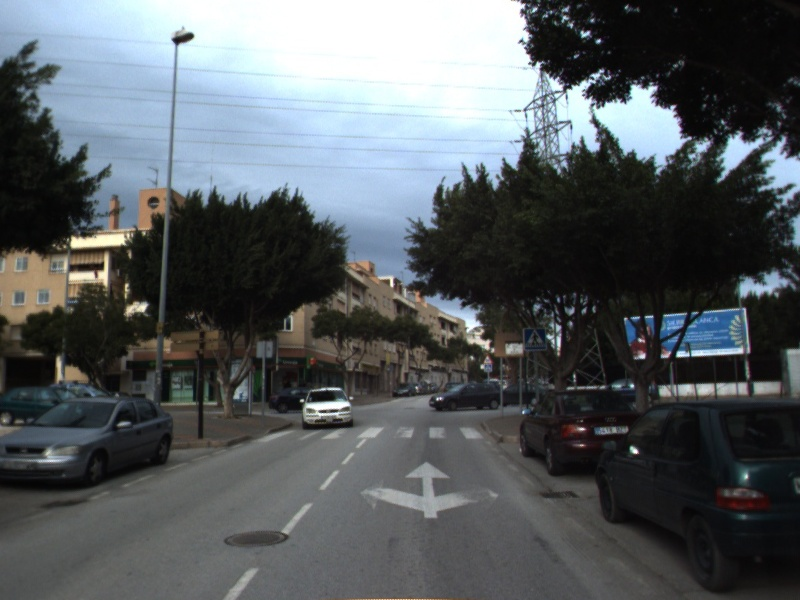STRAIGHT_LEFT_RIGHT: (358, 459, 502, 520)
